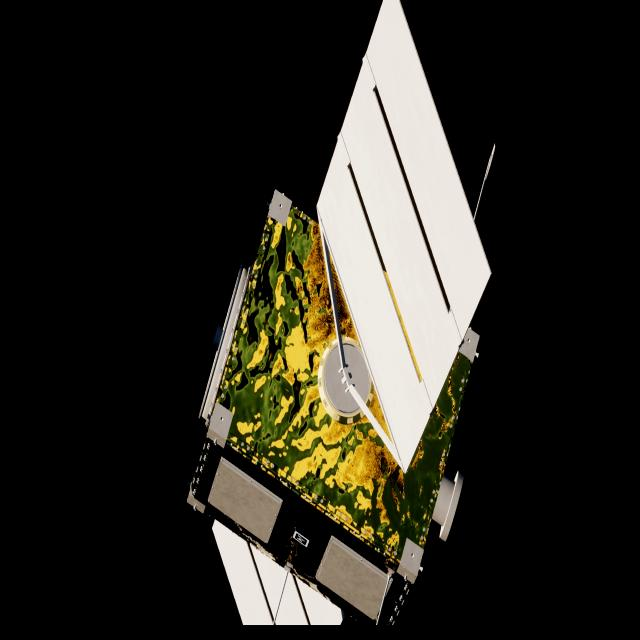medium_debris: (188, 0, 513, 640)
